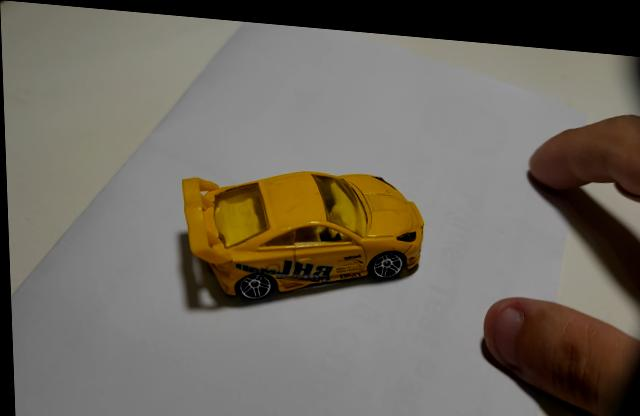07_RHLTURBO: (180, 166, 423, 300)
